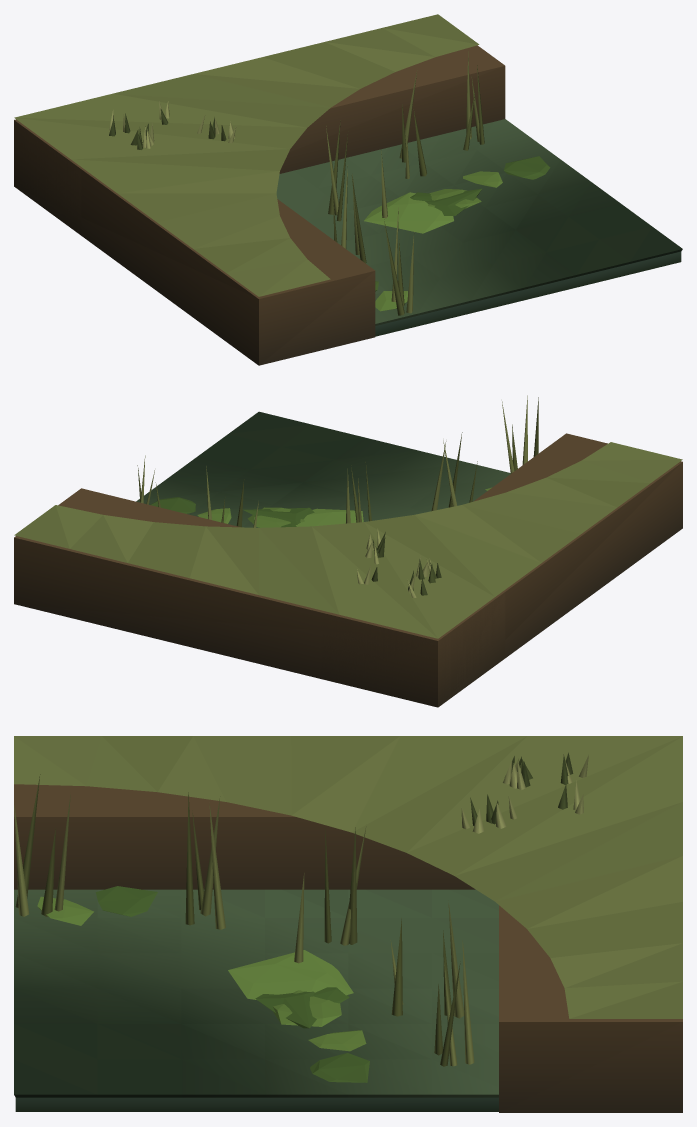
File: shore-corner-in-bayou-tile.glb
3 renders of one model, top to bottom at view 1: azimuth 30°, elevation 25°; view 2: azimuth 150°, elevation 25°; view 3: azimuth 270°, elevation 25°, orthographic. The views are drawn at different scales.
Visible parts, largest first — view 1: shore_corner_in_bayou_tile; view 2: shore_corner_in_bayou_tile; view 3: shore_corner_in_bayou_tile.
Part boxes in pixels (left/top/right/bottom): shore_corner_in_bayou_tile: left=14, top=14, right=682, bottom=365; shore_corner_in_bayou_tile: left=14, top=395, right=682, bottom=707; shore_corner_in_bayou_tile: left=14, top=736, right=682, bottom=1112.
Bounding box in the file's own units: 4 × 0.9698 × 4.
